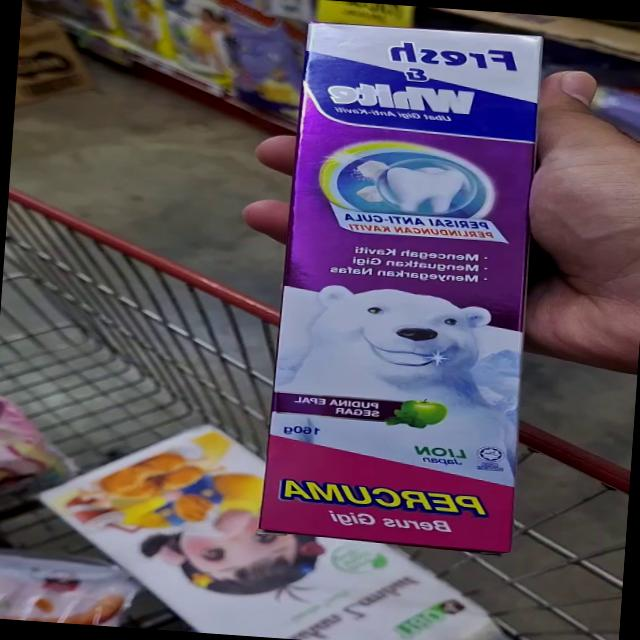Tisu: (21, 418, 252, 581), (170, 534, 502, 640)
Ubat Gigi: (272, 12, 556, 331), (248, 258, 552, 554)
